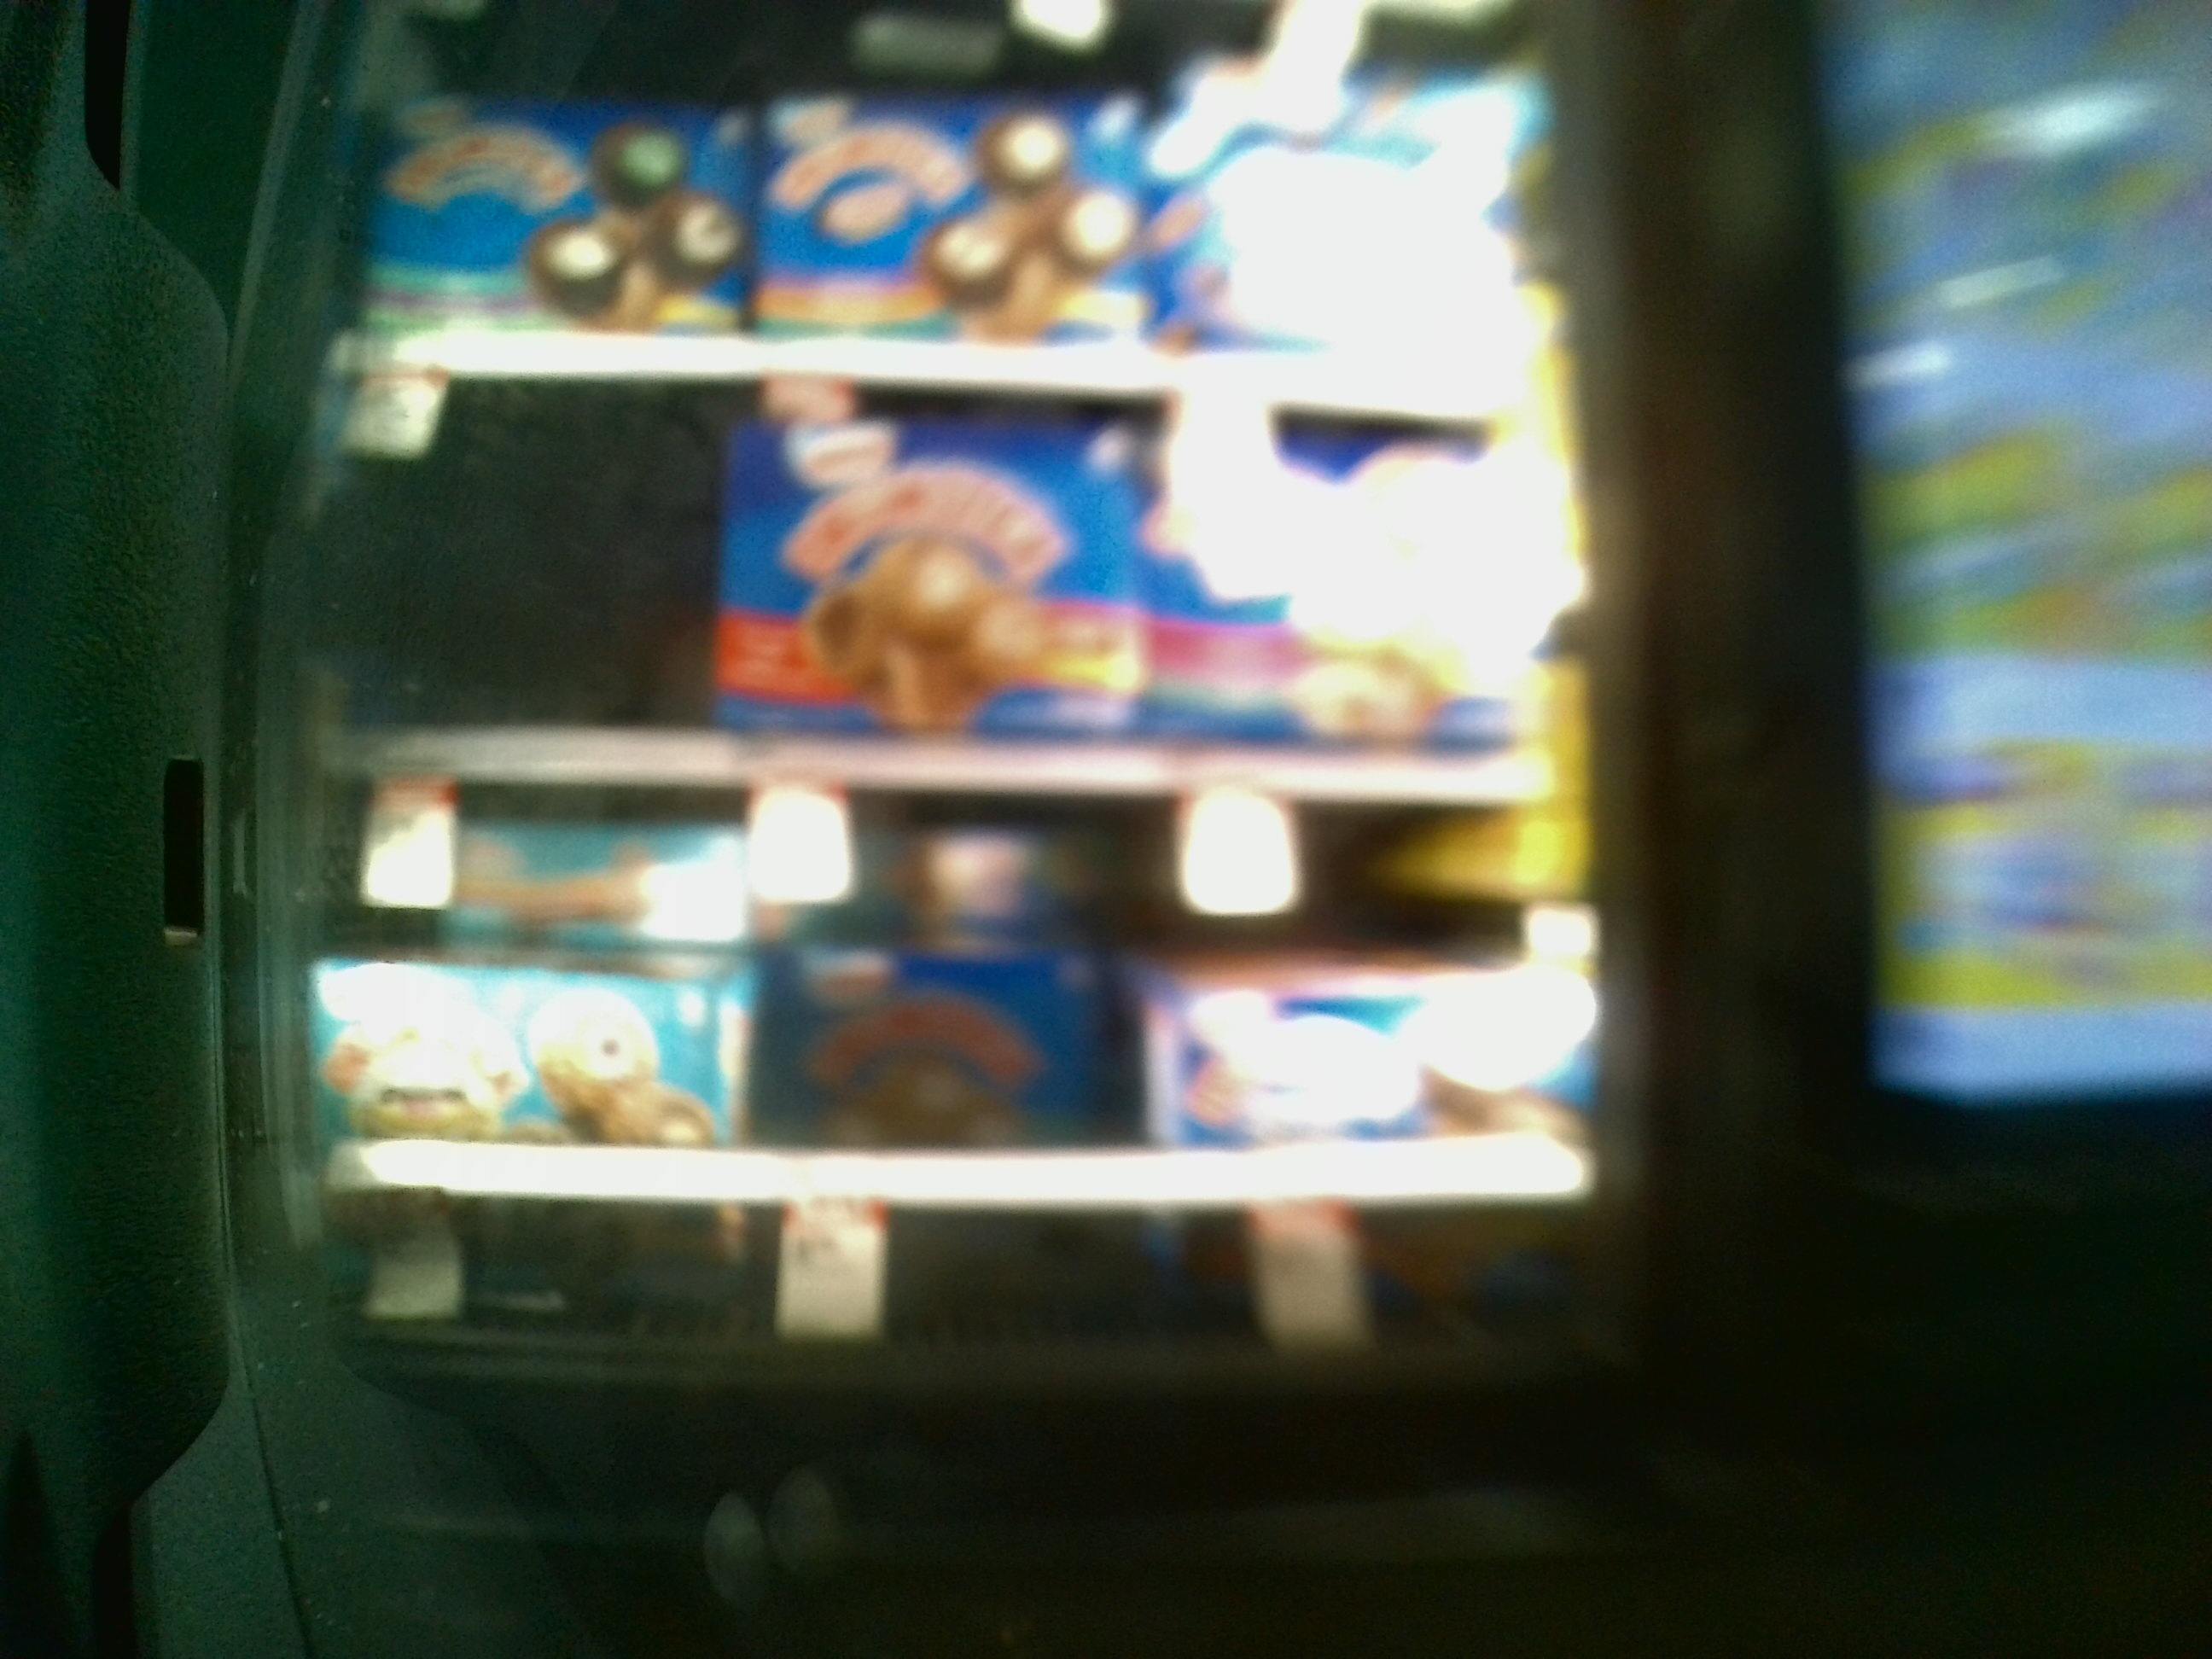shelf: (314, 791, 1630, 1328), (310, 376, 1590, 788)
